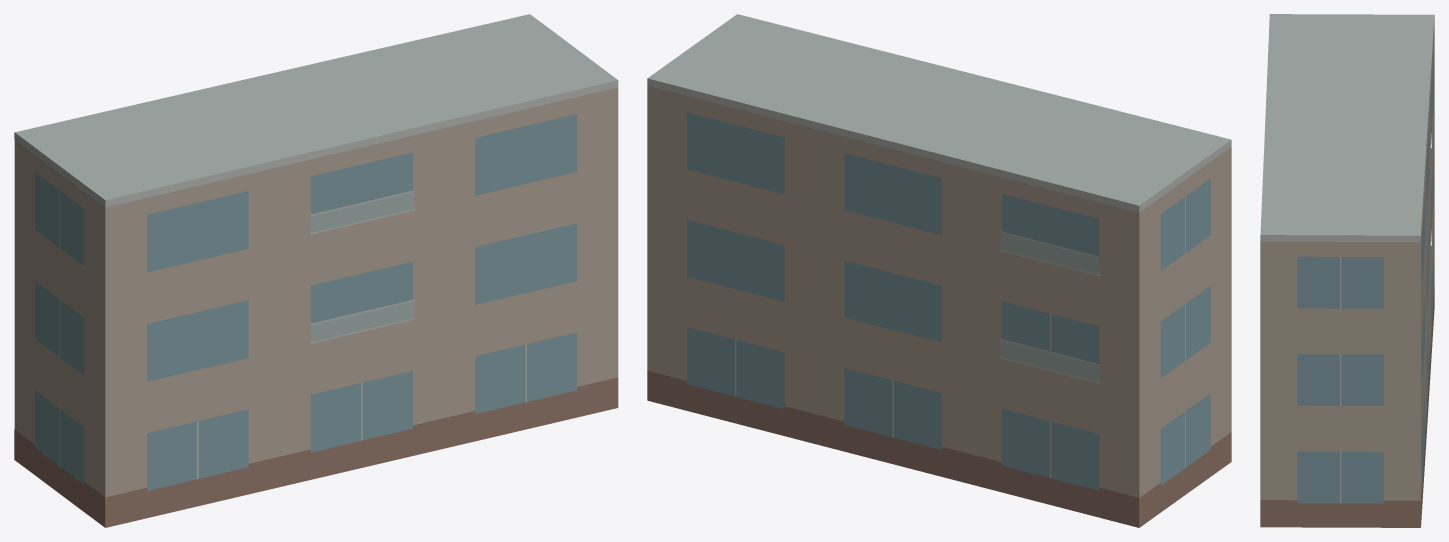
The model's file is survey-upis-32975176.glb.
3 views of the same model, side by side, from view 1: azimuth 30°, elevation 25°; view 2: azimuth 150°, elevation 25°; view 3: azimuth 270°, elevation 25° (orthographic). The views are drawn at different scales.
Visible parts, largest first — view 1: survey-upis-32975176.tmp; view 2: survey-upis-32975176.tmp; view 3: survey-upis-32975176.tmp.
Part boxes in pixels (left/top/right/bottom): survey-upis-32975176.tmp: left=14, top=14, right=618, bottom=527; survey-upis-32975176.tmp: left=647, top=14, right=1231, bottom=527; survey-upis-32975176.tmp: left=1260, top=14, right=1434, bottom=527.
Size of the model in its own units: 17.91 by 11 by 5.95.
